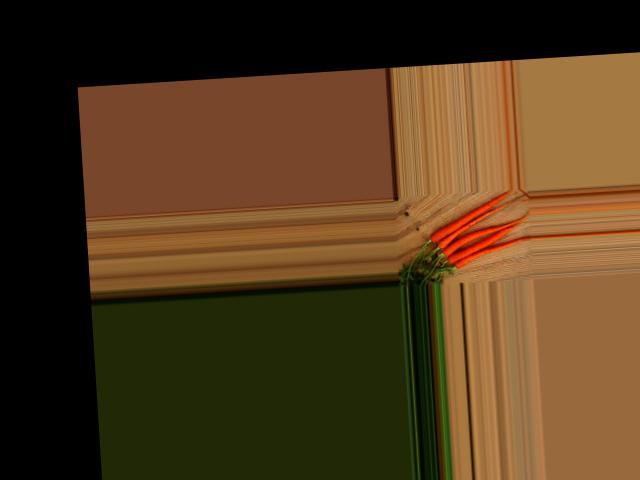carrot: (453, 235, 530, 270)
